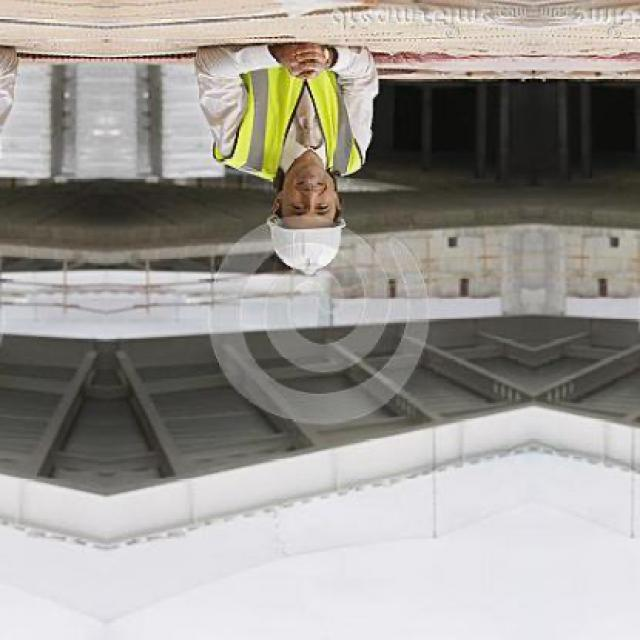safetyhelmet: (266, 151, 355, 274)
